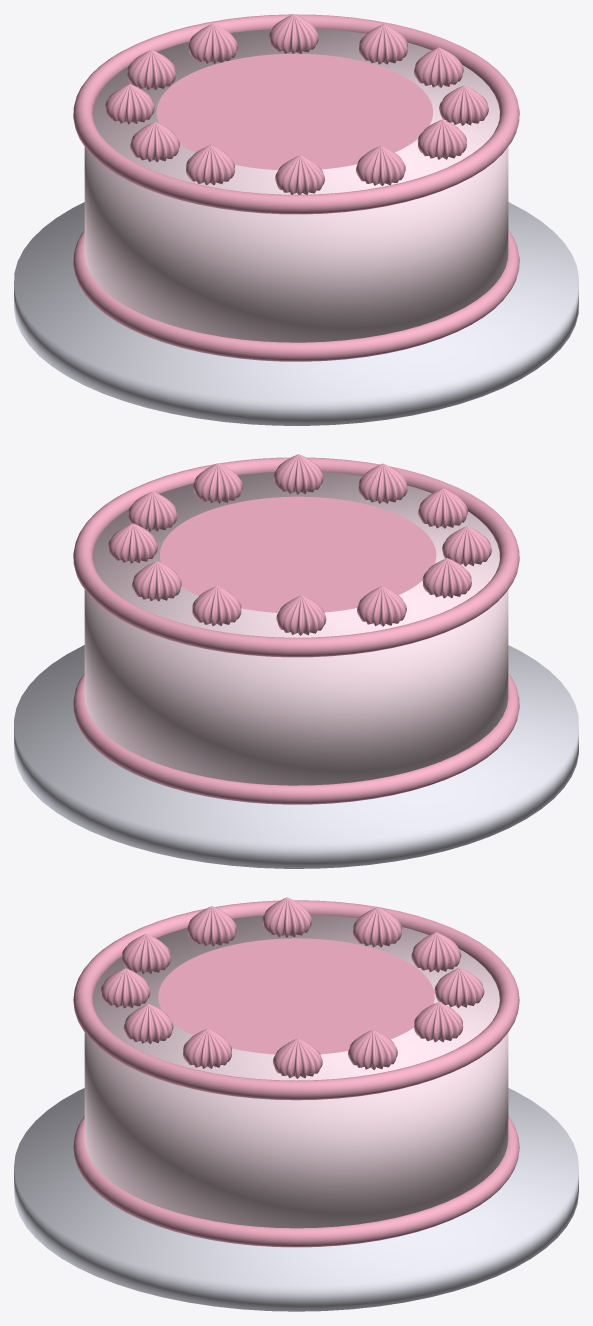
The model's file is round_strawberry_style3.glb.
The picture shows the model from 3 angles, top to bottom: view 1: azimuth 30°, elevation 25°; view 2: azimuth 150°, elevation 25°; view 3: azimuth 270°, elevation 25°; orthographic projection.
Visible parts, largest first — view 1: CakeBase, IcingStand, CakeTopColor, IcingRing, IcingRing.001, CakecolorCircle, design10, design6, design2, design7, design4, design1 (+6 smaller); view 2: CakeBase, IcingStand, CakeTopColor, IcingRing, IcingRing.001, CakecolorCircle, design2, design5, design3, design9, design10, design1 (+6 smaller); view 3: CakeBase, IcingStand, CakeTopColor, IcingRing, IcingRing.001, CakecolorCircle, design2, design11, design10, design7, design6, design8 (+6 smaller).
Part boxes in pixels (<box>): CakeBase: <box>84,29,508,342</box>; IcingStand: <box>14,202,578,425</box>; CakeTopColor: <box>169,57,423,164</box>; IcingRing: <box>73,14,519,214</box>; IcingRing.001: <box>73,230,519,361</box>; CakecolorCircle: <box>156,53,432,170</box>; design10: <box>105,84,154,124</box>; design6: <box>127,50,176,89</box>; design2: <box>356,145,405,185</box>; design7: <box>186,145,234,185</box>; design4: <box>414,47,463,87</box>; design1: <box>188,23,237,63</box>; CakeBase: <box>84,472,508,785</box>; IcingStand: <box>14,645,578,868</box>; CakeTopColor: <box>169,500,423,607</box>; IcingRing: <box>73,457,519,657</box>; IcingRing.001: <box>73,673,519,804</box>; CakecolorCircle: <box>160,496,436,612</box>; design2: <box>358,463,407,503</box>; design5: <box>273,454,323,494</box>; design3: <box>422,558,471,598</box>; design9: <box>193,463,242,503</box>; design10: <box>357,586,406,626</box>; design1: <box>192,586,241,625</box>; CakeBase: <box>84,914,508,1228</box>; IcingStand: <box>14,1088,578,1311</box>; CakeTopColor: <box>169,943,423,1049</box>; IcingRing: <box>73,900,519,1100</box>; IcingRing.001: <box>73,1116,519,1247</box>; CakecolorCircle: <box>158,938,434,1054</box>; design2: <box>100,968,150,1008</box>; design11: <box>414,1002,463,1042</box>; design10: <box>353,907,401,947</box>; design7: <box>187,906,236,946</box>; design6: <box>411,932,461,972</box>; design8: <box>348,1030,397,1069</box>.
Size of the model in its own units: 4 by 1.75 by 4.
